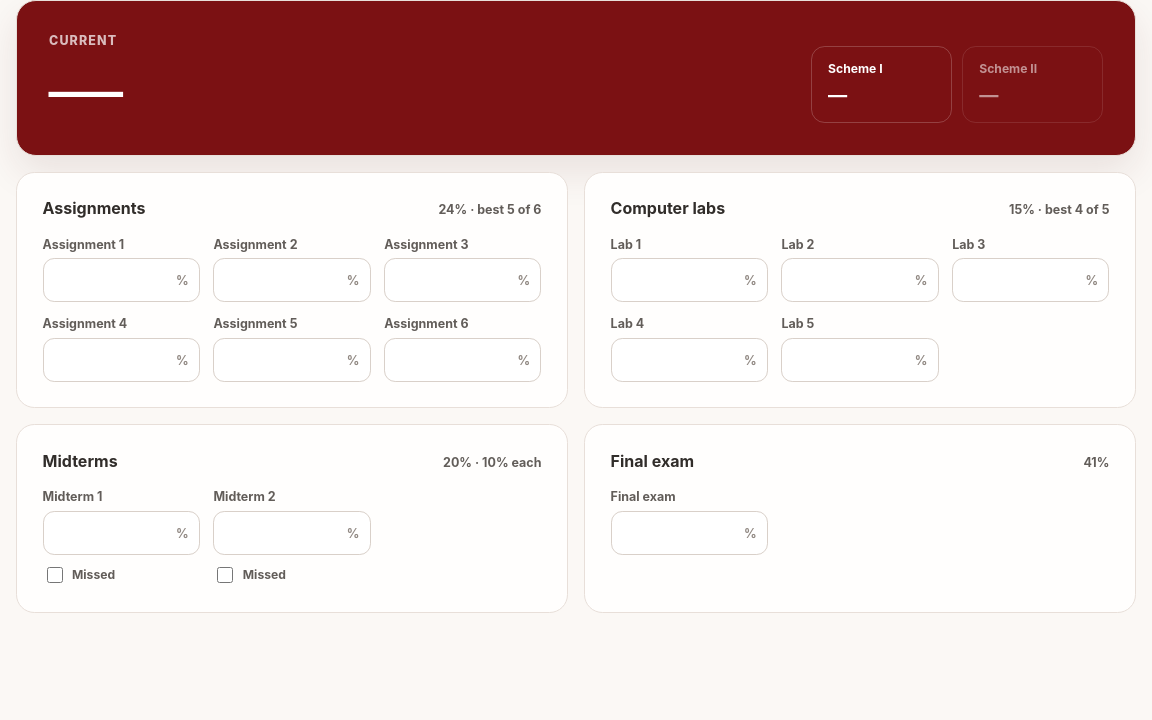
Test: GradeCalculator › shows the normalized current mark and a muted unavailable Scheme II
This screenshot has width=1152, height=720.
Step 1. Type "85" into the number field labelled "Assignment 1" → (121, 280), box [43,258,200,302]
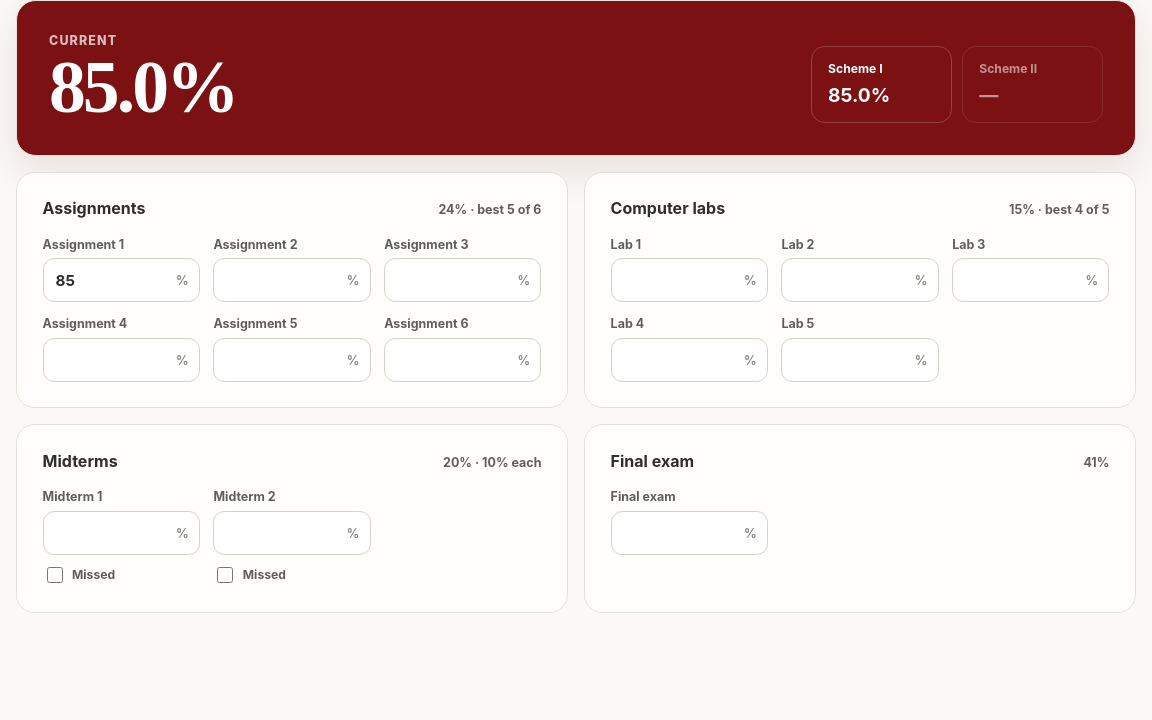
Step 2. Type "70" into the number field labelled "Midterm 1" → (121, 533), box [43,511,200,555]
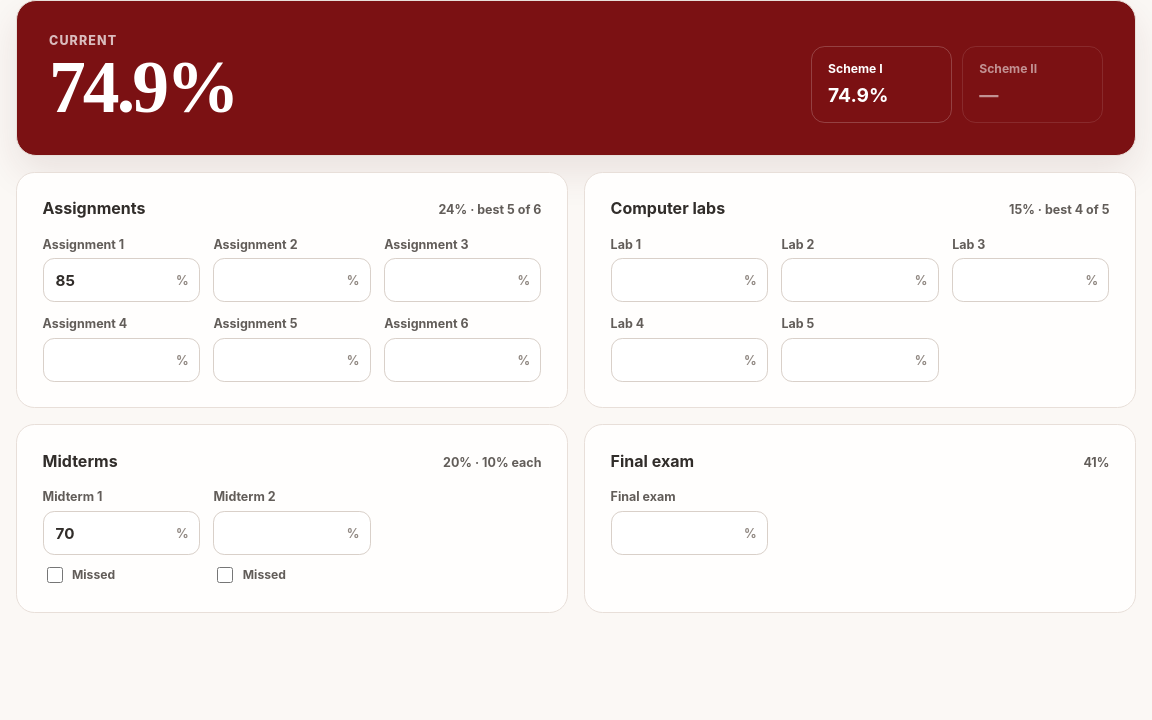
Expected: the element with test id "scheme-two" shows "—", [979,83,998,107]
Expected: the text with test id "current-grade" reads "74.9%", [49,46,237,128]
Expected: the element with test id "scheme-one" shows "74.9%", [828,83,888,107]
